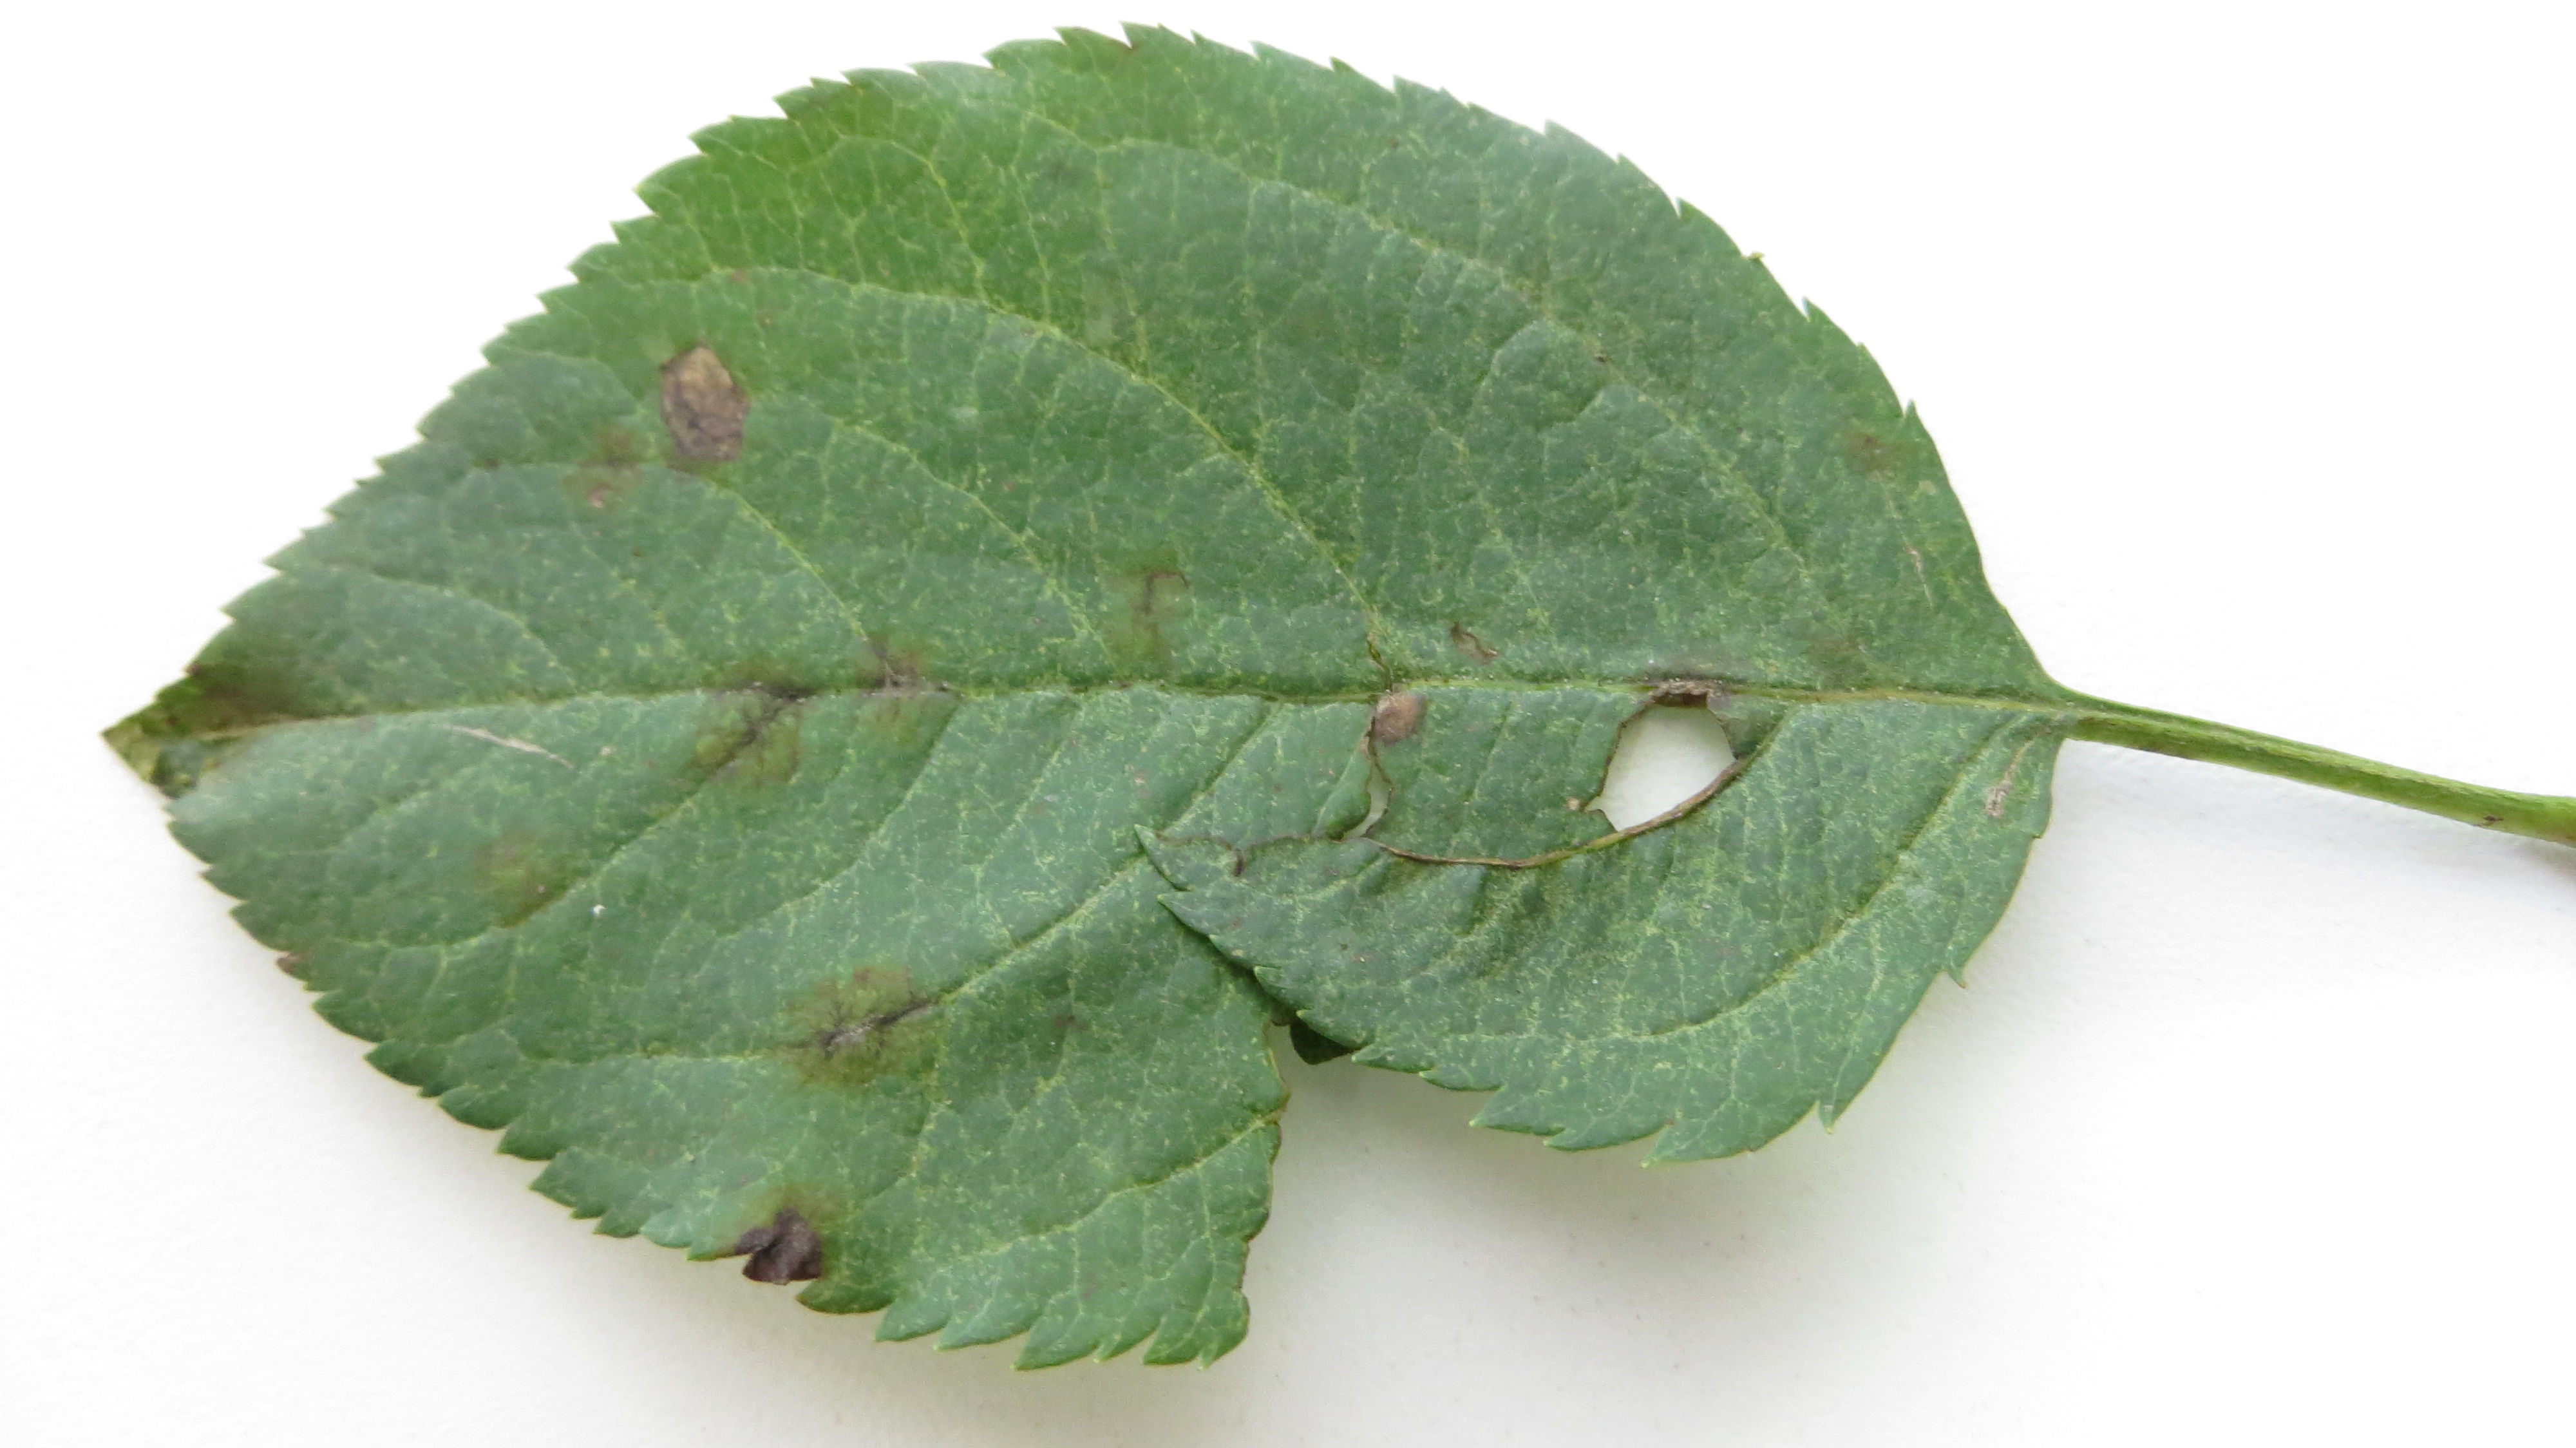sarna: (127, 639, 356, 795), (770, 954, 952, 1092), (706, 1179, 847, 1305), (642, 329, 754, 481), (699, 664, 828, 789), (840, 598, 936, 736), (1341, 635, 1440, 759), (1108, 542, 1214, 651), (554, 404, 651, 508)
